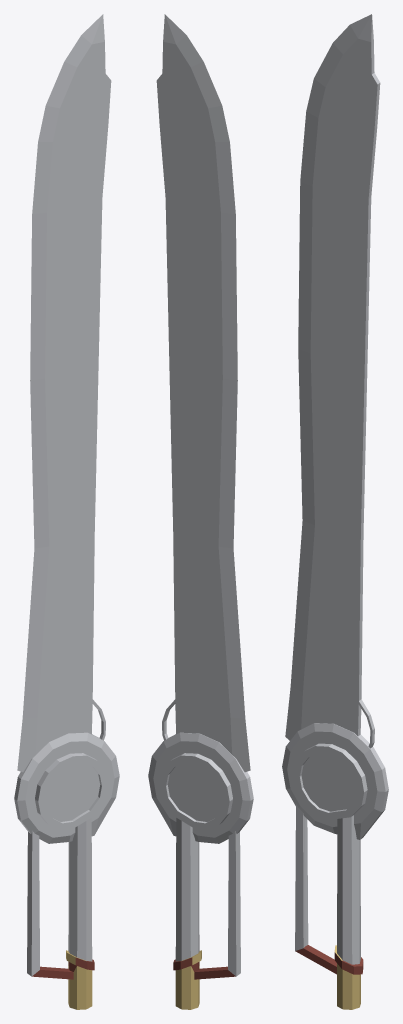
3 views of the same model, side by side, from view 1: azimuth 30°, elevation 25°; view 2: azimuth 150°, elevation 25°; view 3: azimuth 330°, elevation 25° (orthographic).
Size of the model in its own units: 0.1089 by 1 by 0.0257.
